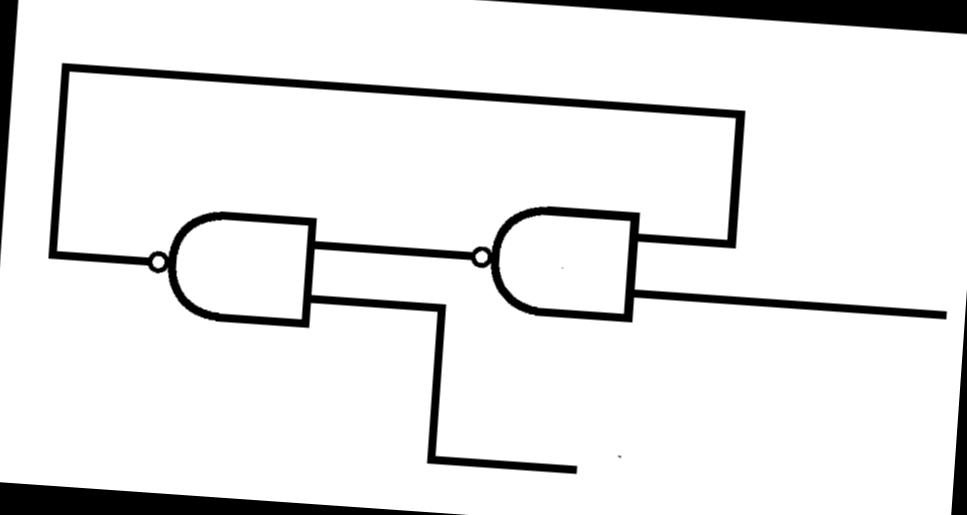nand: (112, 186, 351, 351), (442, 182, 680, 342)
